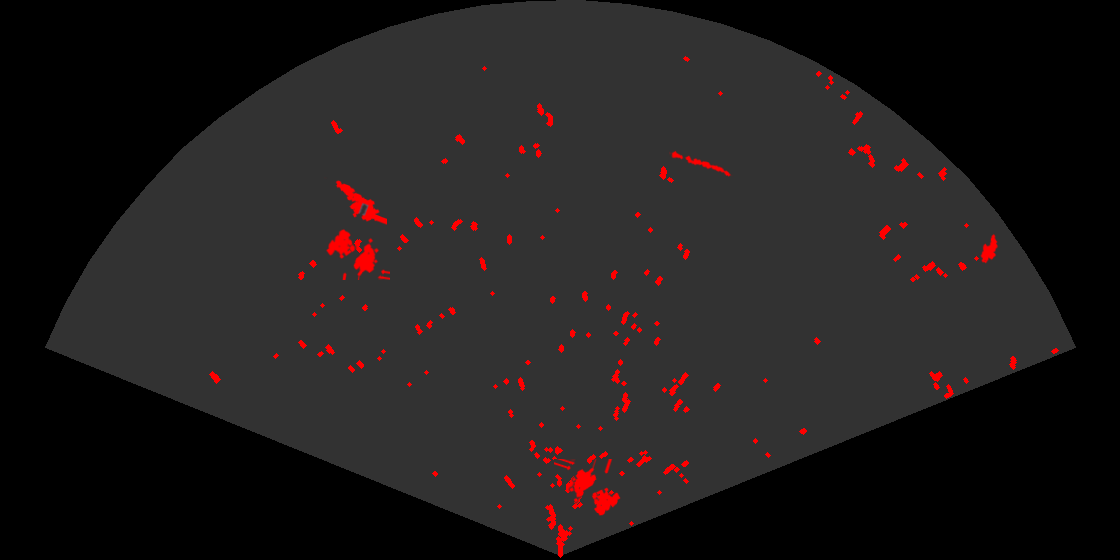AUV: (979, 232, 1001, 265)
cage: (554, 459, 622, 517), (324, 227, 390, 280)
chain: (669, 149, 734, 178)
frogman: (324, 177, 387, 226)
